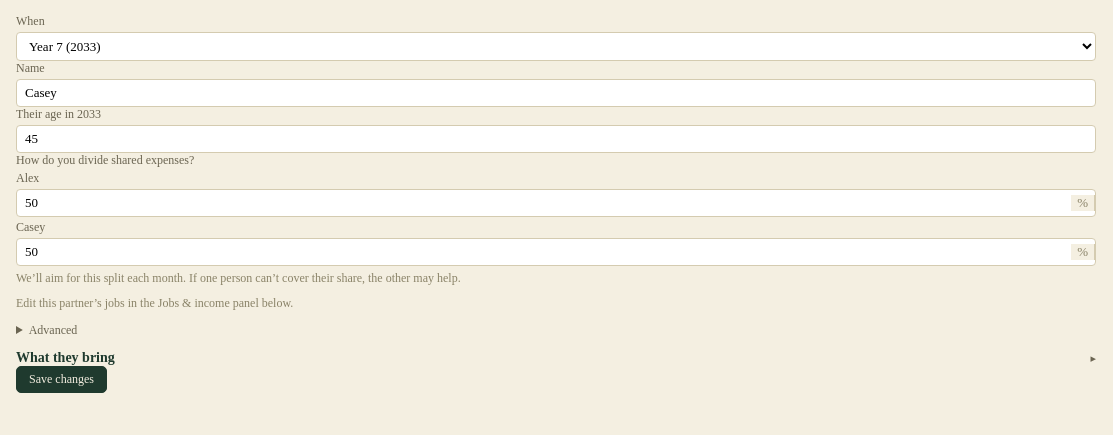
it: RelationshipForm — editing a partnership that a separation already ended › still refuses a start date moved back into the partnership before it
Select "Year 4 (2030)" in the dropdown labelled "When" at point(556, 46), box [16, 32, 1096, 61]
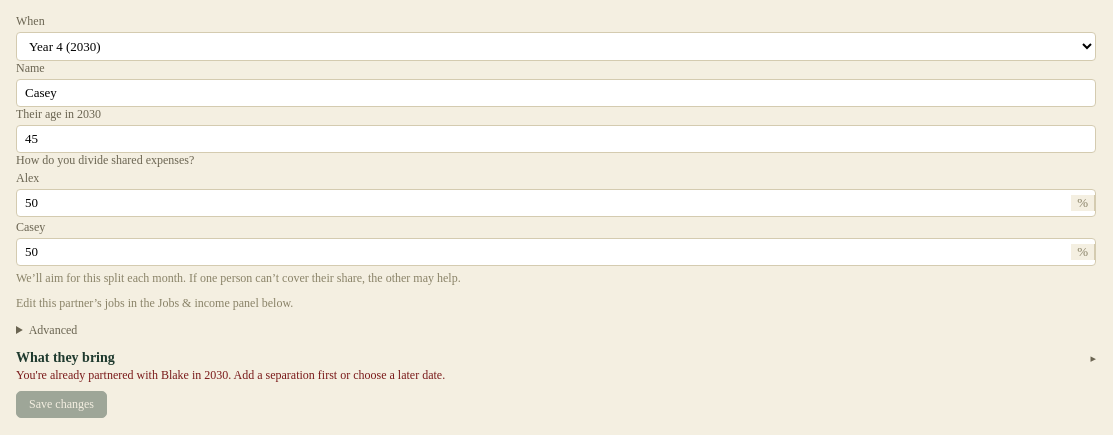
Expected: the text "already partnered with Blake" is shown, [16, 368, 445, 382]
Expected: the button "Save changes" is disabled, [16, 391, 107, 418]
